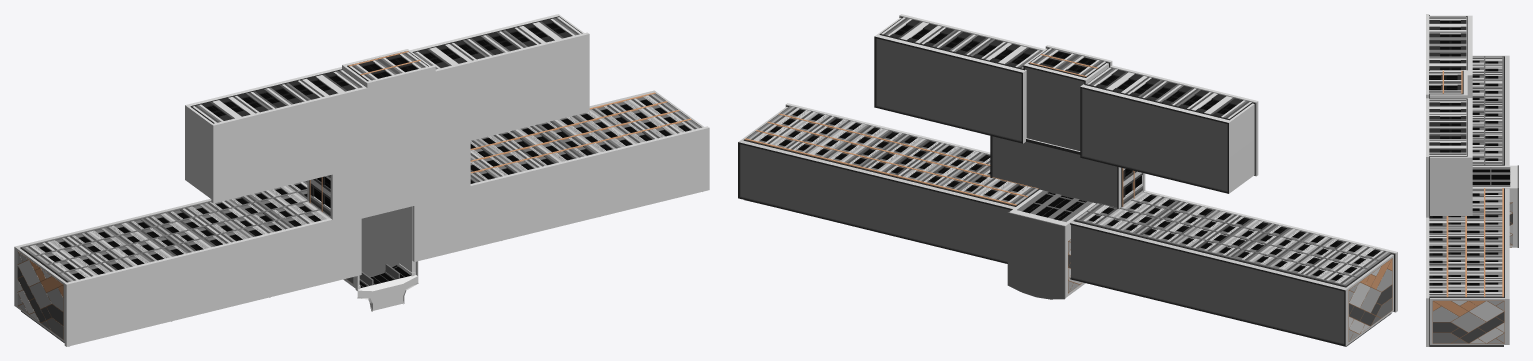
Rendered from school.fbx.
The picture shows the model from 3 angles, left to right: view 1: azimuth 30°, elevation 25°; view 2: azimuth 150°, elevation 25°; view 3: azimuth 270°, elevation 25°; orthographic projection. The views are drawn at different scales.
Parts seen in each view (by area): view 1: HighSchool.002, HighSchool.010, HighSchool.023, HighSchool.015, HighSchool.026, HighSchool.012, HighSchool.008, HighSchool.004, HighSchool.018, HighSchool.011, HighSchool.025, HighSchool.001 (+6 smaller); view 2: HighSchool.002, HighSchool.005, HighSchool.015, HighSchool.026, HighSchool.006, HighSchool.012, HighSchool.019, HighSchool.018, HighSchool.008, HighSchool.011, HighSchool.024, HighSchool.025 (+8 smaller); view 3: HighSchool.002, HighSchool.026, HighSchool.008, HighSchool.015, HighSchool.018, HighSchool.019, HighSchool.001, HighSchool.012, HighSchool.024, HighSchool.006, HighSchool.027, HighSchool.020 (+9 smaller).
Boxes of the visible parts, left/top/right/bottom form: HighSchool.002: left=185, top=14, right=589, bottom=225; HighSchool.010: left=64, top=218, right=361, bottom=346; HighSchool.023: left=412, top=126, right=709, bottom=261; HighSchool.015: left=22, top=181, right=330, bottom=281; HighSchool.026: left=470, top=93, right=701, bottom=182; HighSchool.012: left=39, top=184, right=321, bottom=279; HighSchool.008: left=17, top=251, right=63, bottom=339; HighSchool.004: left=361, top=209, right=399, bottom=275; HighSchool.018: left=470, top=99, right=690, bottom=183; HighSchool.011: left=21, top=189, right=319, bottom=274; HighSchool.025: left=32, top=184, right=324, bottom=277; HighSchool.001: left=470, top=96, right=684, bottom=180; HighSchool.002: left=874, top=14, right=1258, bottom=208; HighSchool.005: left=740, top=144, right=1344, bottom=343; HighSchool.015: left=1076, top=192, right=1390, bottom=284; HighSchool.026: left=746, top=106, right=1037, bottom=204; HighSchool.006: left=1070, top=204, right=1394, bottom=346; HighSchool.012: left=1088, top=195, right=1380, bottom=280; HighSchool.019: left=738, top=105, right=1039, bottom=263; HighSchool.018: left=760, top=109, right=1024, bottom=200; HighSchool.008: left=1348, top=258, right=1392, bottom=341; HighSchool.011: left=1074, top=199, right=1380, bottom=286; HighSchool.024: left=744, top=113, right=1038, bottom=205; HighSchool.025: left=1092, top=193, right=1374, bottom=282; HighSchool.002: left=1426, top=14, right=1472, bottom=217; HighSchool.026: left=1429, top=188, right=1502, bottom=297; HighSchool.008: left=1432, top=300, right=1504, bottom=343; HighSchool.015: left=1472, top=56, right=1502, bottom=164; HighSchool.018: left=1429, top=193, right=1498, bottom=292; HighSchool.019: left=1429, top=188, right=1509, bottom=345; HighSchool.001: left=1429, top=192, right=1502, bottom=292; HighSchool.012: left=1472, top=60, right=1498, bottom=160; HighSchool.024: left=1446, top=188, right=1503, bottom=297; HighSchool.006: left=1472, top=55, right=1509, bottom=165; HighSchool.027: left=1472, top=165, right=1517, bottom=247; HighSchool.020: left=1442, top=192, right=1502, bottom=292.
Size of the model in its own units: 10908 by 3724 by 1750.
